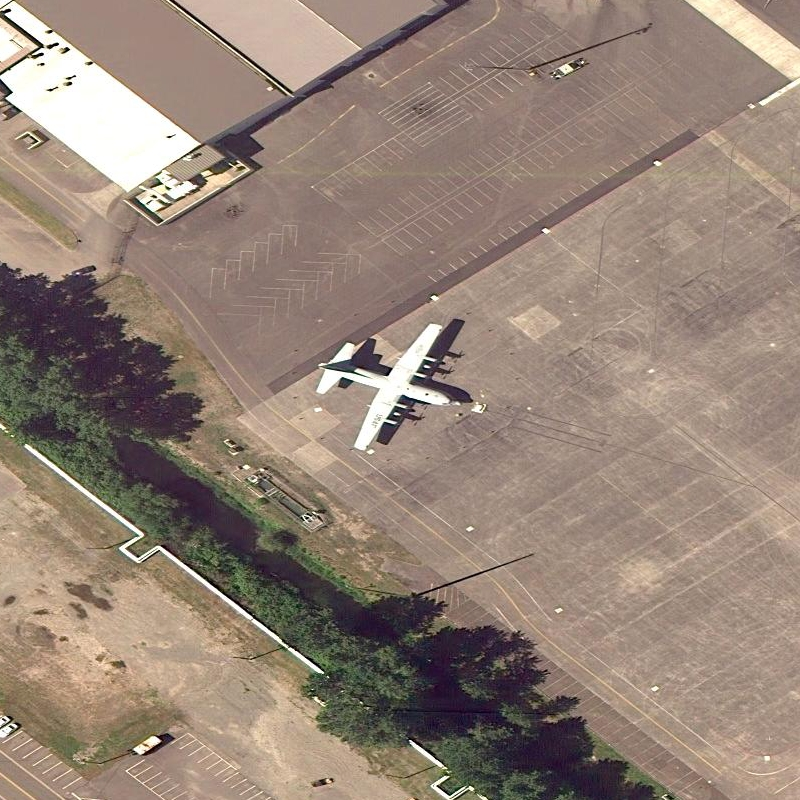A2: (305, 318, 469, 456)
